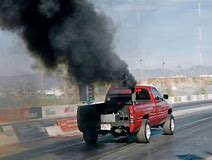smoke: (1, 1, 135, 88)
